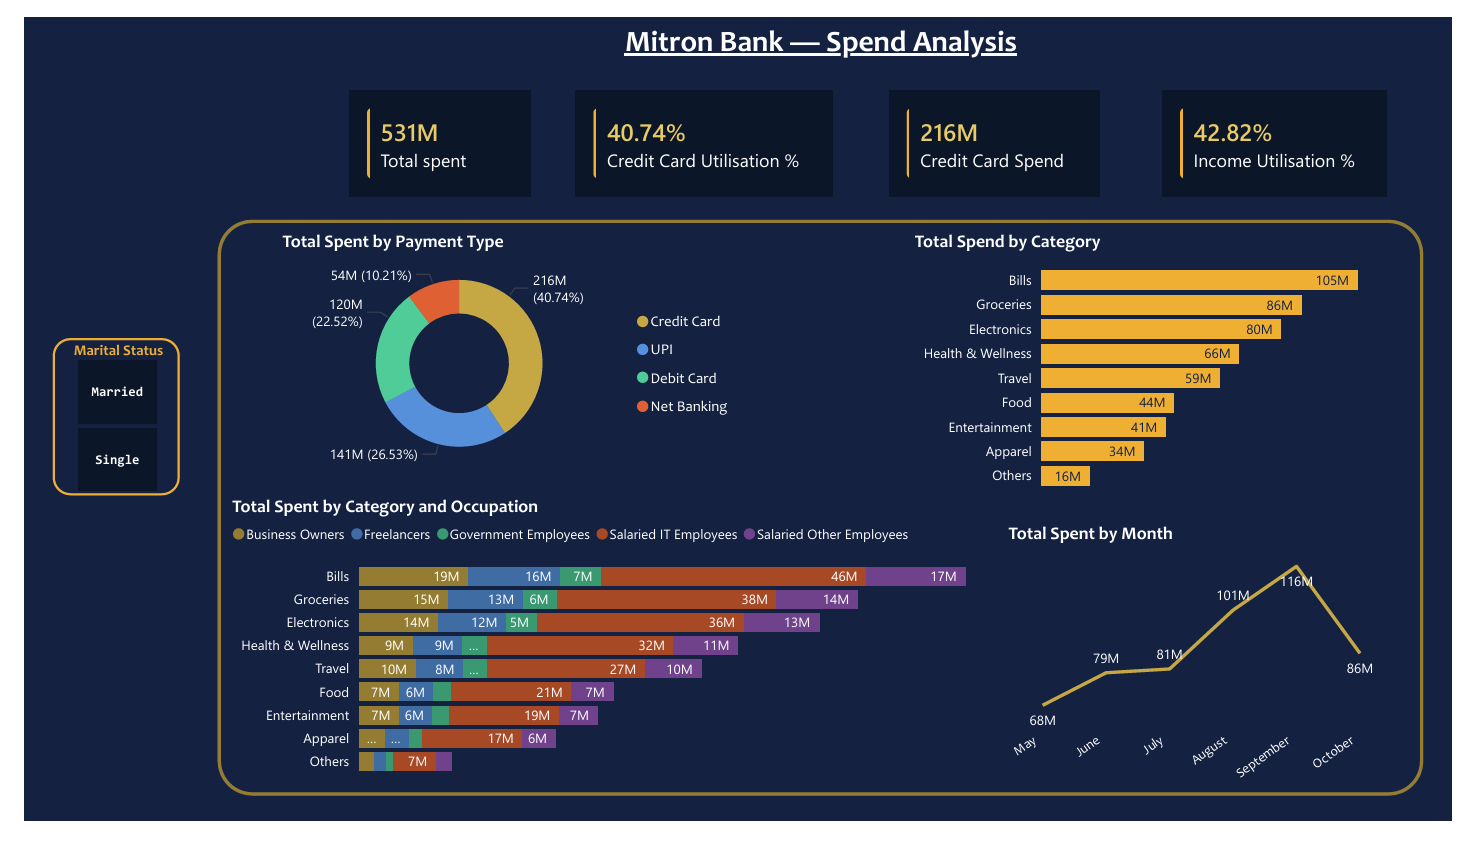

What the dashboard file says about the page in this screenshot:
{"tool":"powerbi","page":{"name":"Spend Analysis","canvas":[1280,720],"ordinal":2},"visuals":[{"type":"shape","box":[172.9,181.2,1080.7,515.5],"z":0},{"type":"cardVisual","fields":{"Data":["_measures.Income Utilisation %"]},"box":[1020,65,201,95.2],"z":1000},{"type":"slicer","title":"Marital Status","fields":{"Values":["dim_customers.marital status"]},"box":[24.8,286.7,113.9,140.8],"z":2000},{"type":"textbox","box":[489.6,0,448.2,54.9],"z":3000},{"type":"clusteredBarChart","title":"Total Spend by Category","fields":{"Category":["fact_spends.category"],"Y":["_measures.Total spent"]},"box":[798.1,190.5,435.8,237.1],"z":4000},{"type":"lineChart","title":"Total Spent by Month","fields":{"Category":["fact_spends.month"],"Y":["_measures.Total spent"]},"box":[895.4,438.9,338.5,244.3],"z":5000},{"type":"donutChart","title":"Total Spent by Payment Type","fields":{"Category":["fact_spends.payment_type"],"Y":["_measures.Total spent"]},"box":[230.8,190.5,408.9,218.4],"z":6000},{"type":"barChart","title":"Total Spent by Category and Occupation","fields":{"Y":["_measures.Total spent"],"Series":["dim_customers.occupation"],"Category":["fact_spends.category"]},"box":[186.3,427.5,683.2,255.7],"z":7000},{"type":"cardVisual","fields":{"Data":["_measures.Credit Card Spend"]},"box":[775.3,65.2,188.4,95.2],"z":8000},{"type":"cardVisual","fields":{"Data":["_measures.Credit Card Utilisation %"]},"box":[493.8,65.2,232.9,95.2],"z":9000},{"type":"cardVisual","fields":{"Data":["_measures.Total spent"]},"box":[290.9,65.2,163.6,95.2],"z":10000}]}

Visuals, with their boxes in screenshot pixels (x1, y1, x2, y2), scaled from the page's 1280x720 canvas onto the 1477x842 screenshot:
shape: <region>200, 212, 1447, 815</region>
cardVisual - _measures.Income Utilisation %: <region>1177, 76, 1409, 187</region>
"Marital Status" slicer: <region>29, 335, 160, 500</region>
textbox: <region>565, 0, 1082, 64</region>
"Total Spend by Category" clusteredBarChart: <region>921, 223, 1424, 500</region>
"Total Spent by Month" lineChart: <region>1033, 513, 1424, 799</region>
"Total Spent by Payment Type" donutChart: <region>266, 223, 738, 478</region>
"Total Spent by Category and Occupation" barChart: <region>215, 500, 1003, 799</region>
cardVisual - _measures.Credit Card Spend: <region>895, 76, 1112, 188</region>
cardVisual - _measures.Credit Card Utilisation %: <region>570, 76, 839, 188</region>
cardVisual - _measures.Total spent: <region>336, 76, 524, 188</region>
